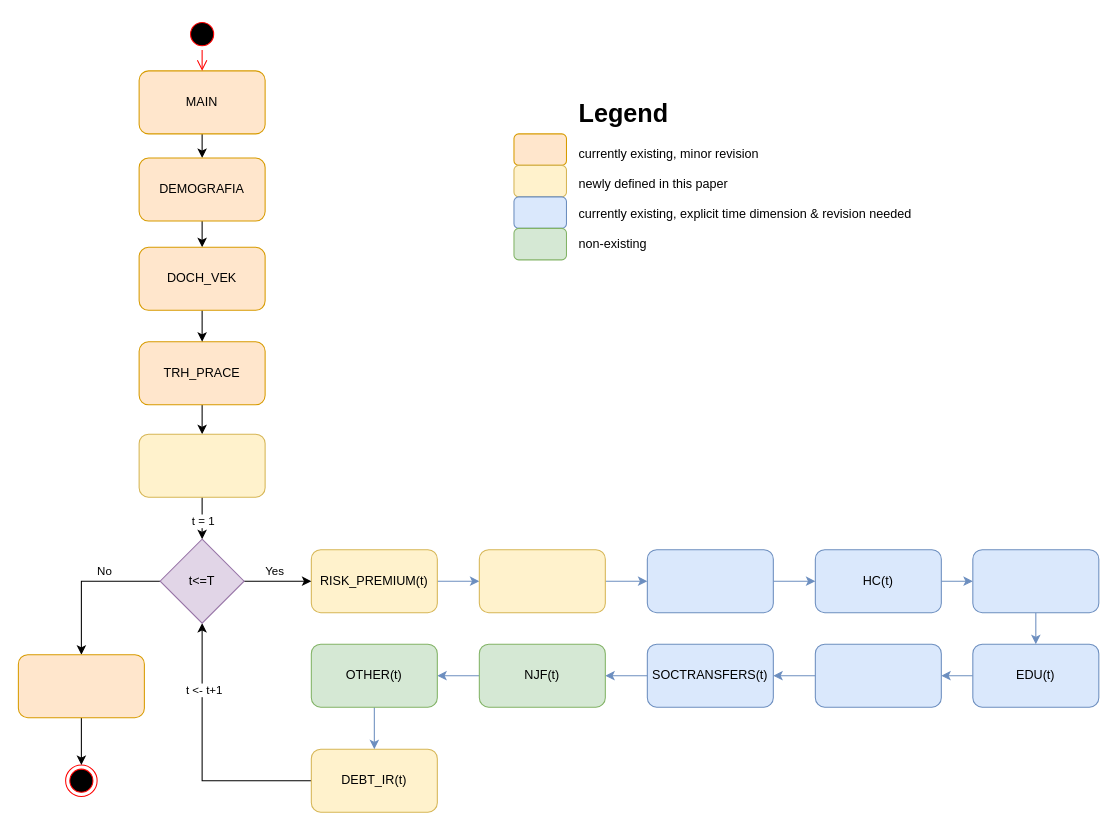
The diagram is 1117 pixels wide and 831 high, and some of its shapes have lost their labels. Each missing label, with the box of its shape:
GA: (17, 654, 144, 718)
GDP(t): (478, 549, 605, 613)
LOADING: (138, 433, 265, 497)
LTC(t): (972, 549, 1099, 613)
OZBROJ(t): (814, 643, 941, 707)
SLOPEM(t): (646, 549, 773, 613)
